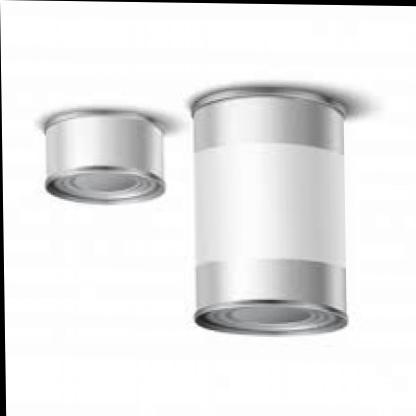Metal: (1, 67, 384, 383)
